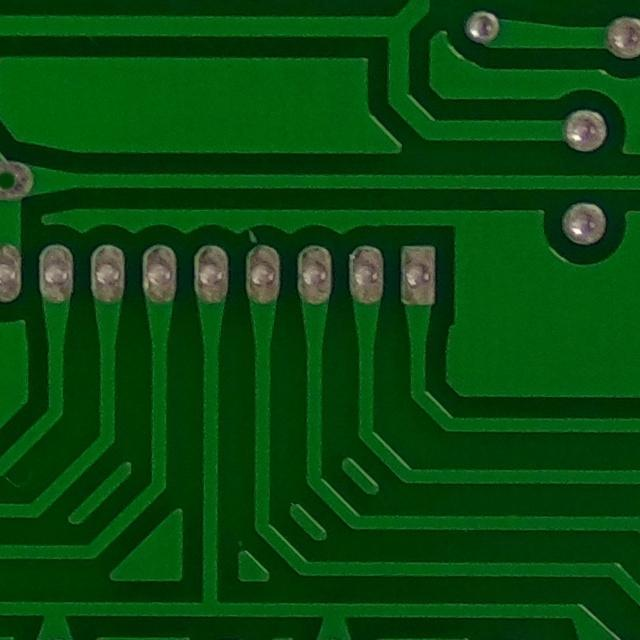missing_hole: (0, 154, 37, 203)
